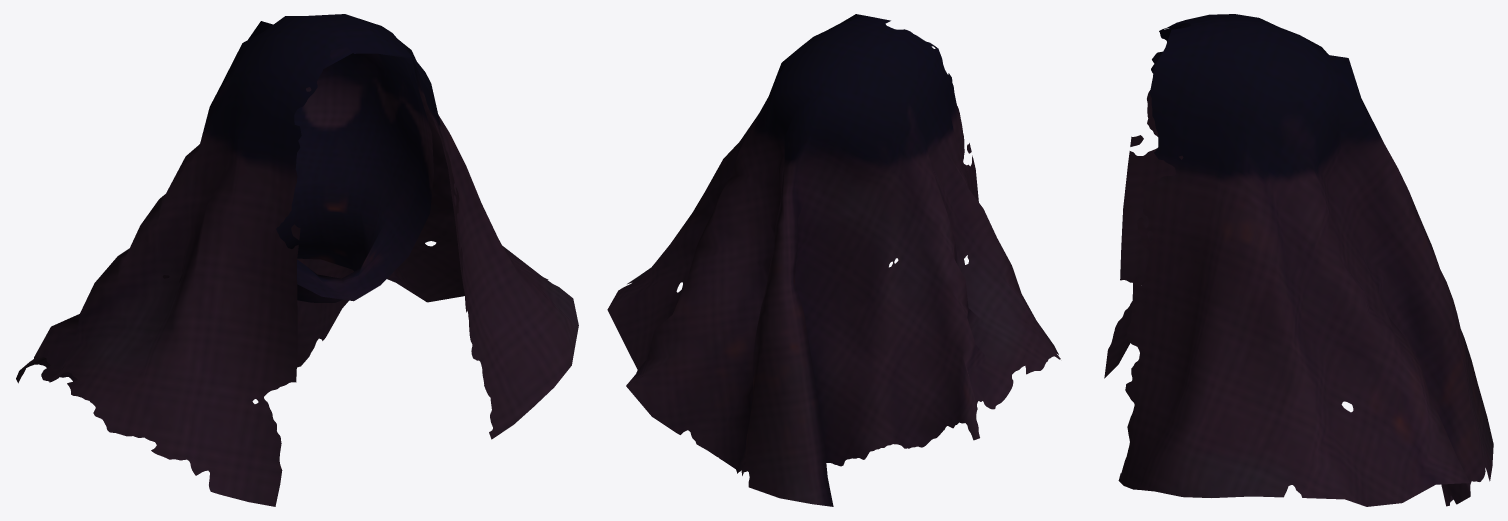
Rendered from guard_hood (1).fbx.
The picture shows the model from 3 angles, left to right: view 1: azimuth 30°, elevation 25°; view 2: azimuth 150°, elevation 25°; view 3: azimuth 270°, elevation 25°; orthographic projection. The views are drawn at different scales.
Parts seen in each view (by area): view 1: guard_hood_low; view 2: guard_hood_low; view 3: guard_hood_low.
Boxes of the visible parts, x1,y1,x2,y2 form: guard_hood_low: (16,14,578,506); guard_hood_low: (607,14,1060,506); guard_hood_low: (1104,14,1493,506).
Size of the model in its own units: 59.39 by 51.13 by 38.76.
